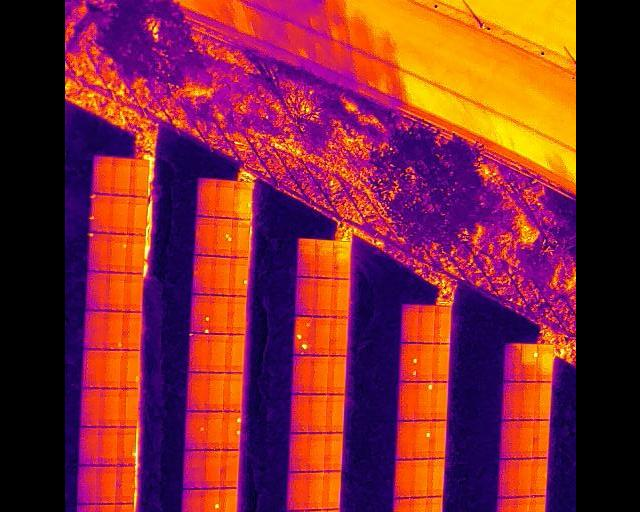Cell: (88, 233, 109, 272), (184, 412, 205, 450), (119, 350, 139, 388), (115, 427, 134, 466), (107, 235, 126, 272), (105, 312, 122, 350), (229, 259, 246, 296), (232, 183, 249, 219), (414, 421, 430, 459), (520, 345, 536, 382), (416, 382, 431, 420), (201, 489, 218, 512), (528, 497, 546, 512)
Cell-Multi: (292, 316, 312, 356), (89, 193, 109, 232), (190, 295, 210, 333), (398, 343, 417, 381), (221, 412, 240, 449), (213, 219, 231, 256)
No-Anomaly: (83, 311, 105, 349), (81, 350, 103, 388), (79, 388, 101, 426), (182, 450, 204, 488), (96, 427, 117, 466), (94, 466, 115, 504), (85, 272, 106, 310), (286, 472, 306, 511), (193, 218, 214, 255), (78, 427, 98, 465), (501, 380, 520, 420), (188, 334, 208, 372), (224, 334, 244, 372), (287, 433, 307, 471), (222, 373, 242, 411), (186, 373, 206, 411), (328, 317, 347, 356), (294, 277, 313, 316), (192, 256, 212, 293), (398, 382, 417, 420), (329, 279, 348, 317), (326, 356, 345, 394), (76, 466, 95, 504), (321, 472, 340, 510), (226, 296, 245, 334), (205, 373, 224, 411), (196, 179, 215, 217), (99, 388, 118, 426), (210, 258, 229, 295), (219, 450, 238, 487), (114, 466, 133, 503), (108, 197, 127, 234), (297, 238, 315, 277), (207, 334, 225, 373), (109, 159, 129, 194), (401, 305, 419, 343), (396, 421, 414, 459), (393, 460, 411, 498), (326, 395, 344, 433), (499, 421, 517, 459), (430, 344, 448, 382), (308, 395, 326, 433), (324, 433, 342, 471), (309, 356, 327, 394), (314, 239, 332, 277), (313, 278, 331, 316), (291, 356, 309, 394), (214, 181, 233, 217), (209, 296, 227, 334), (202, 450, 220, 488), (118, 389, 136, 427), (122, 312, 140, 350), (122, 274, 141, 310), (102, 350, 120, 388), (331, 242, 349, 279), (504, 344, 522, 381), (290, 395, 308, 432), (427, 458, 444, 497), (410, 459, 427, 498), (92, 157, 110, 193), (126, 199, 144, 235), (498, 460, 515, 498), (305, 472, 322, 510), (307, 433, 324, 471), (312, 317, 329, 355), (520, 381, 536, 421), (429, 421, 446, 458), (514, 459, 531, 496), (231, 220, 248, 257), (205, 412, 222, 449), (107, 274, 124, 311), (129, 161, 146, 197), (431, 382, 447, 420), (533, 419, 549, 457), (535, 382, 551, 420), (536, 345, 552, 382), (126, 236, 142, 273), (417, 344, 432, 382), (418, 305, 433, 343), (518, 420, 533, 458), (434, 306, 449, 343), (530, 459, 544, 496), (181, 489, 202, 512), (218, 489, 236, 512), (496, 498, 515, 512), (424, 497, 441, 512), (408, 498, 426, 512), (515, 497, 530, 512), (392, 499, 409, 512), (75, 504, 94, 512), (113, 504, 131, 512)
